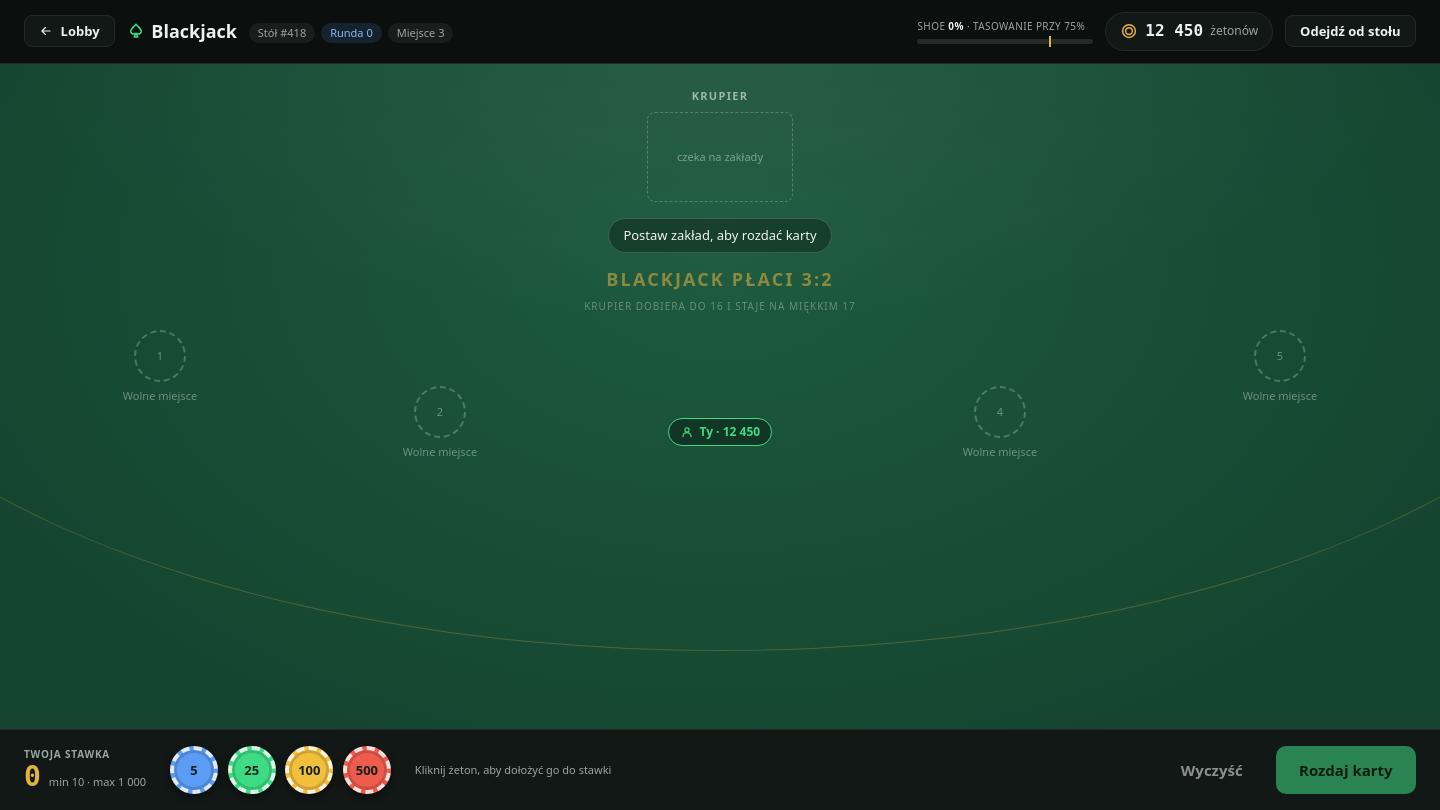
Test case: BlackjackTablePage › clears the bet
Expected: the heading "Blackjack" is shown, [127, 18, 237, 45]
Click the button "500" at (367,770), box [343, 746, 391, 794]
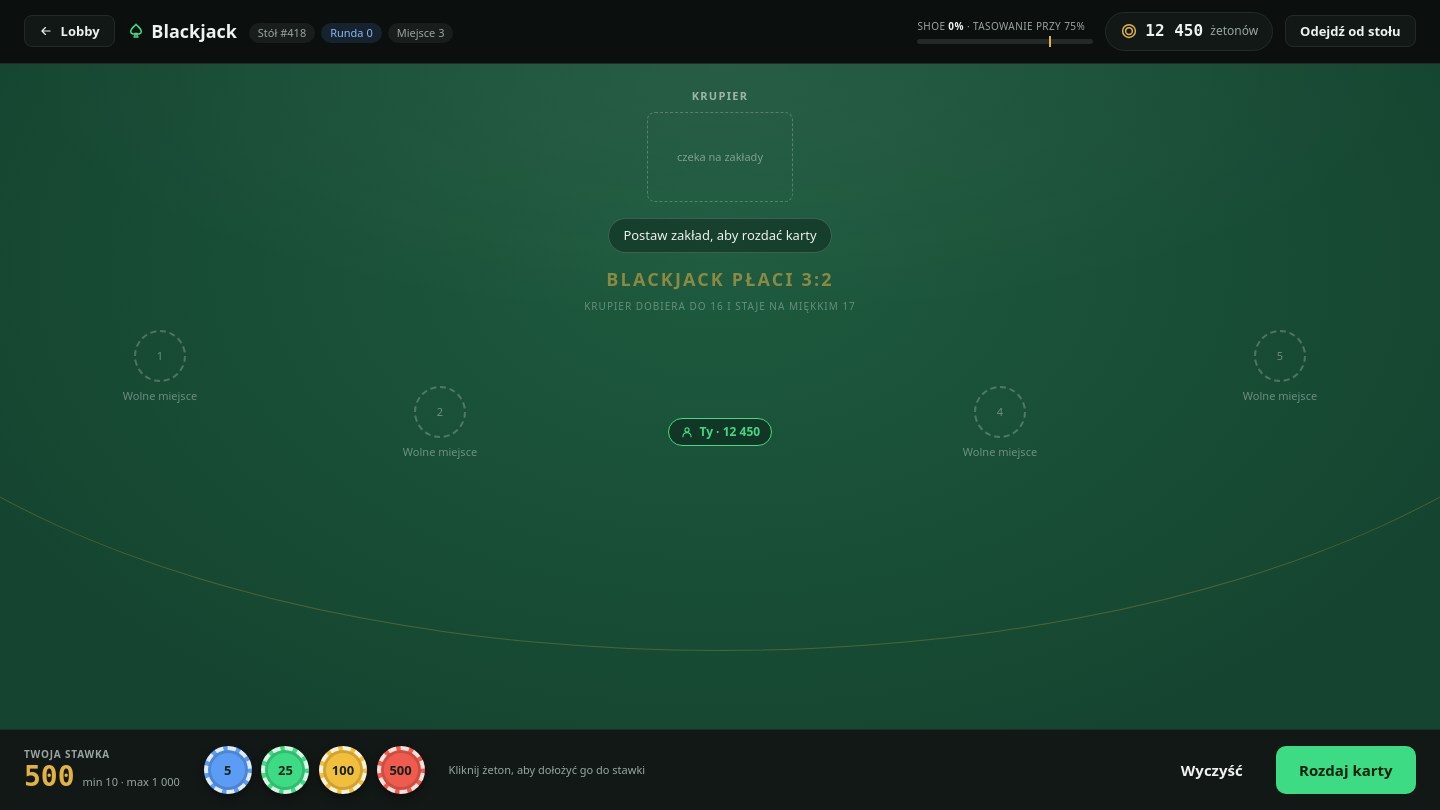
Click the button "Wyczyść" at (1212,770), box [1158, 746, 1266, 794]
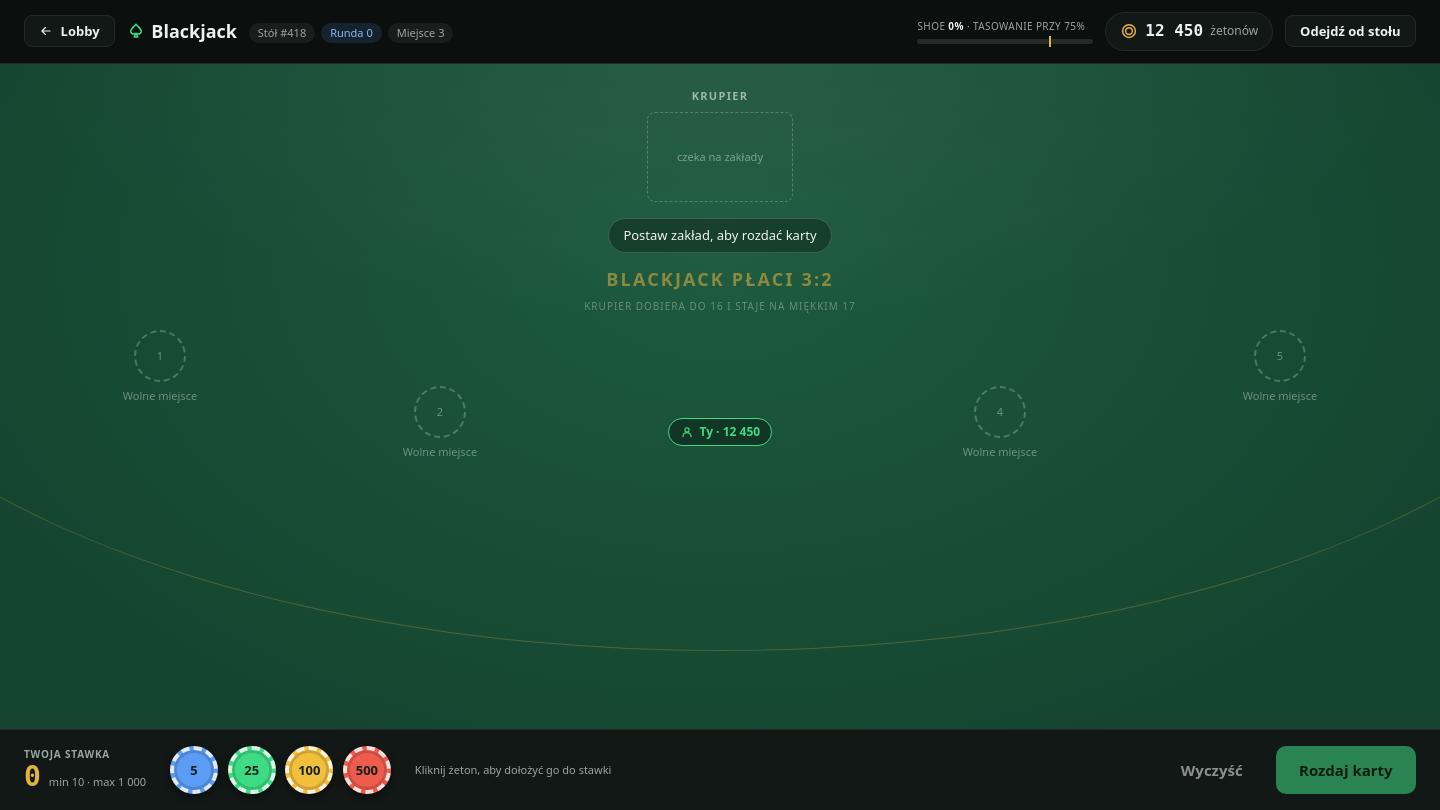
Expected: the button "Rozdaj karty" is disabled, [1276, 746, 1416, 794]
